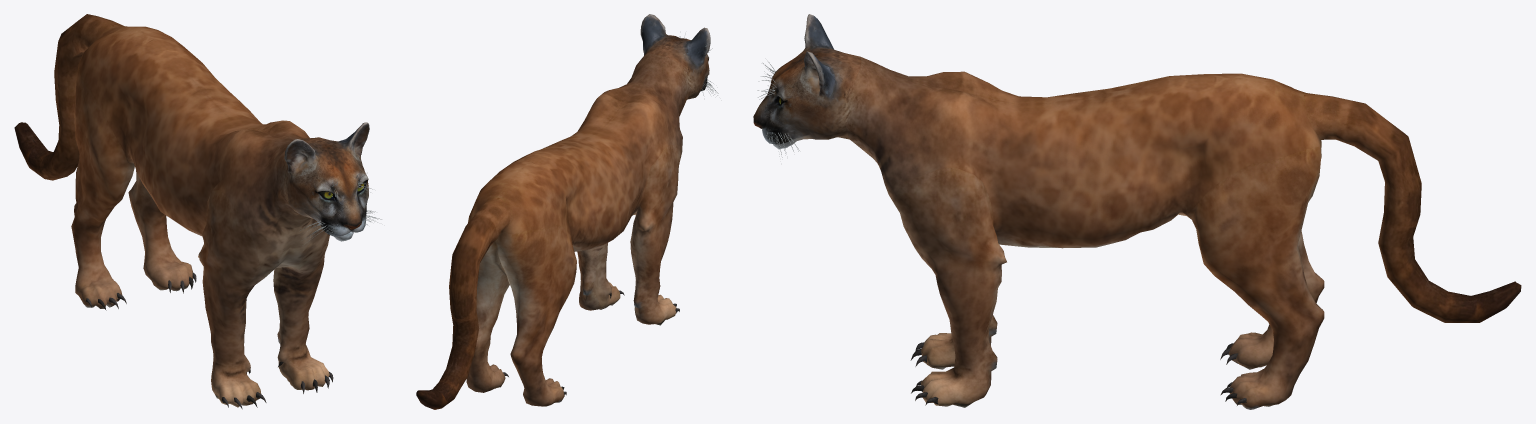
The model's file is Panther.fbx.
3 views of the same model, side by side, from view 1: azimuth 30°, elevation 25°; view 2: azimuth 150°, elevation 25°; view 3: azimuth 270°, elevation 25° (orthographic). The views are drawn at different scales.
Parts seen in each view (by area): view 1: sm_4_0_0, sm_1_0_0; view 2: sm_4_0_0, sm_1_0_0; view 3: sm_4_0_0, sm_1_0_0.
Part boxes in pixels (box(x1,y1,x2,y2)): sm_4_0_0: box(14, 14, 333, 409); sm_1_0_0: box(283, 122, 381, 241); sm_4_0_0: box(416, 54, 691, 409); sm_1_0_0: box(640, 14, 718, 99); sm_4_0_0: box(845, 57, 1521, 409); sm_1_0_0: box(753, 14, 861, 157).
Size of the model in its own units: 36.08 by 92.57 by 184.
3 materials, 3 textured.
